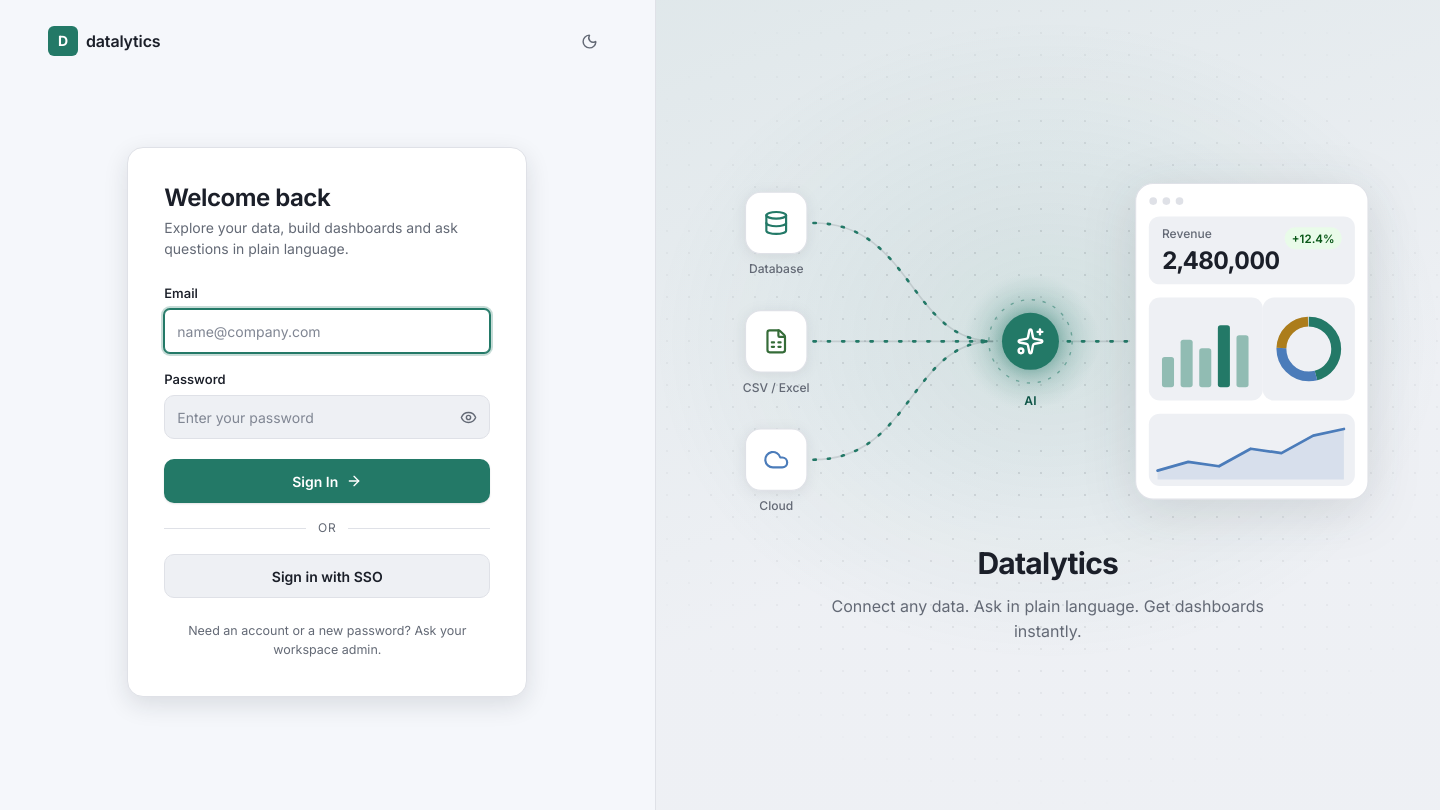
Scenario: Login page: validation (browser only) › shows both errors and does not continue when submitted empty
Click the button "Sign In". click: x=327, y=482
box: [164, 460, 490, 504]
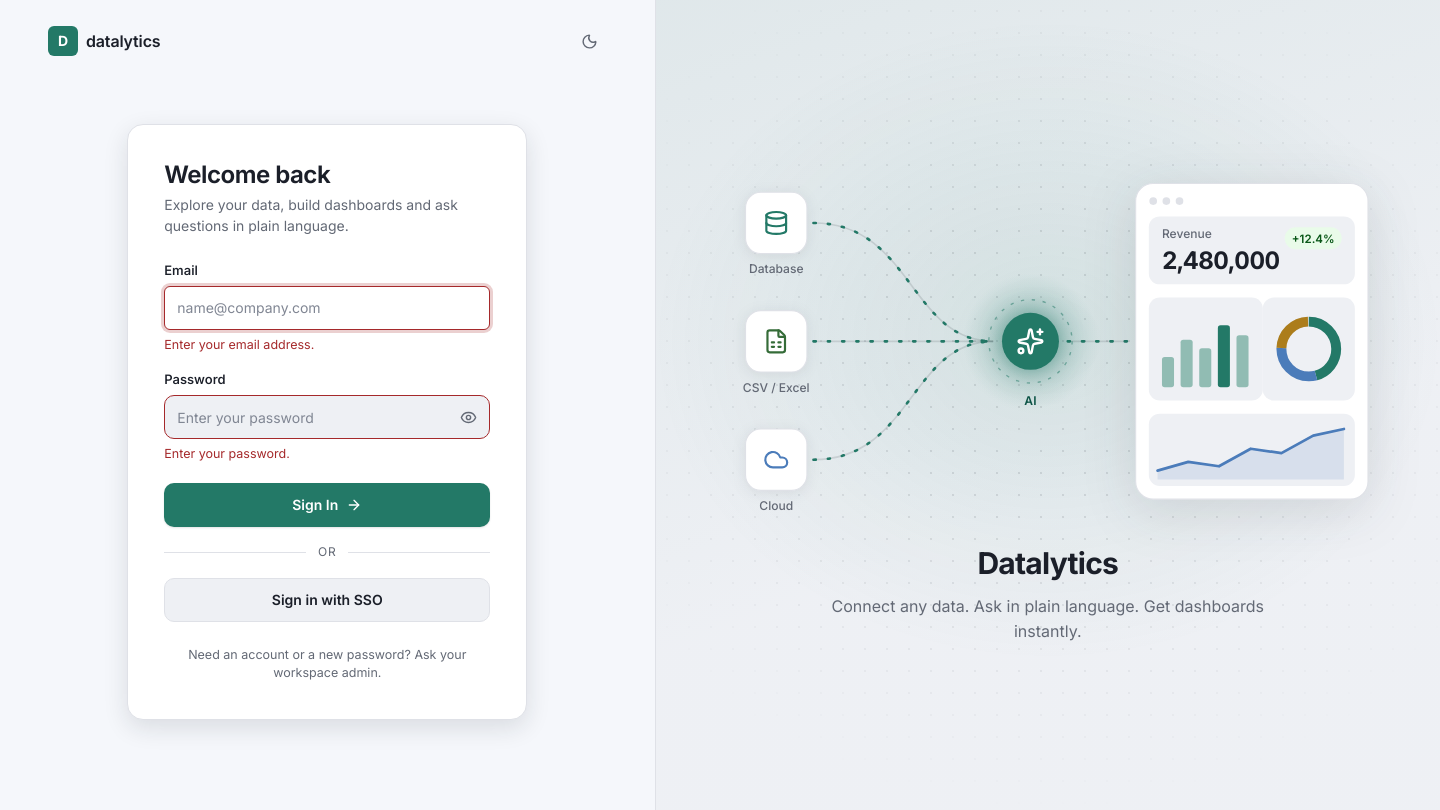
Now the text "Enter your email address." is shown, box [164, 337, 314, 352]
Now the text "Enter your password." is shown, box [164, 446, 290, 462]
